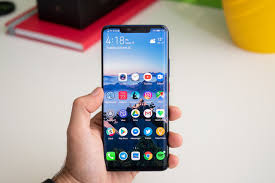huawei: (99, 21, 170, 173)
